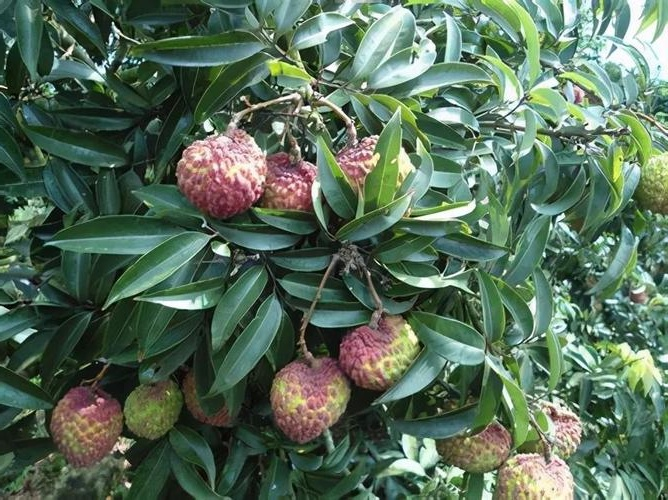Frost_Blight: (218, 103, 385, 214), (461, 388, 603, 492), (47, 351, 163, 473), (287, 349, 356, 425), (370, 318, 413, 381)
